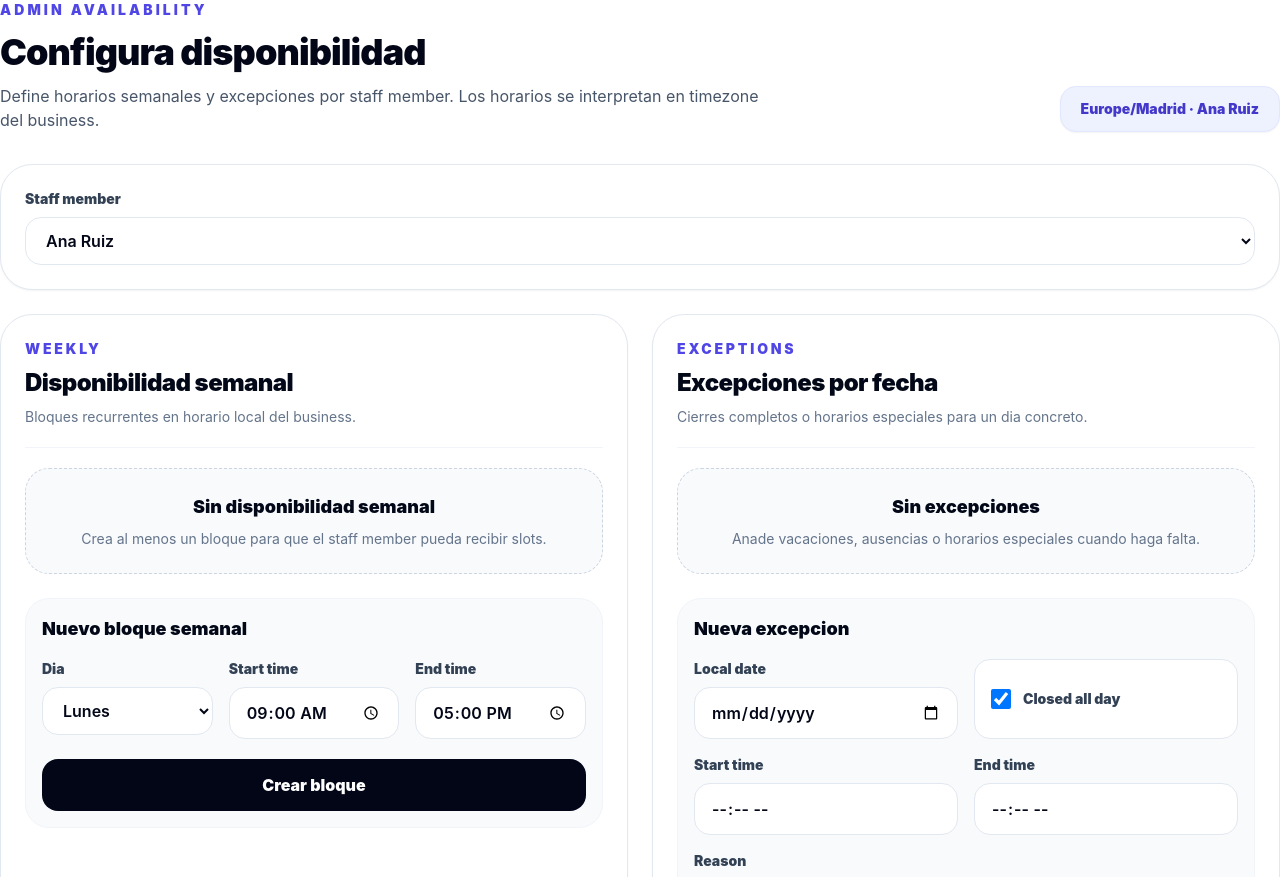
Test case: availability page › shows exception conflicts
The image size is (1280, 877).
Expected: the heading "Sin excepciones" is shown, [892,496,1040,517]
In the date field labelled "Local date": [826, 713] box [694,687,958,739], type "2026-07-20"
(page scrolled)
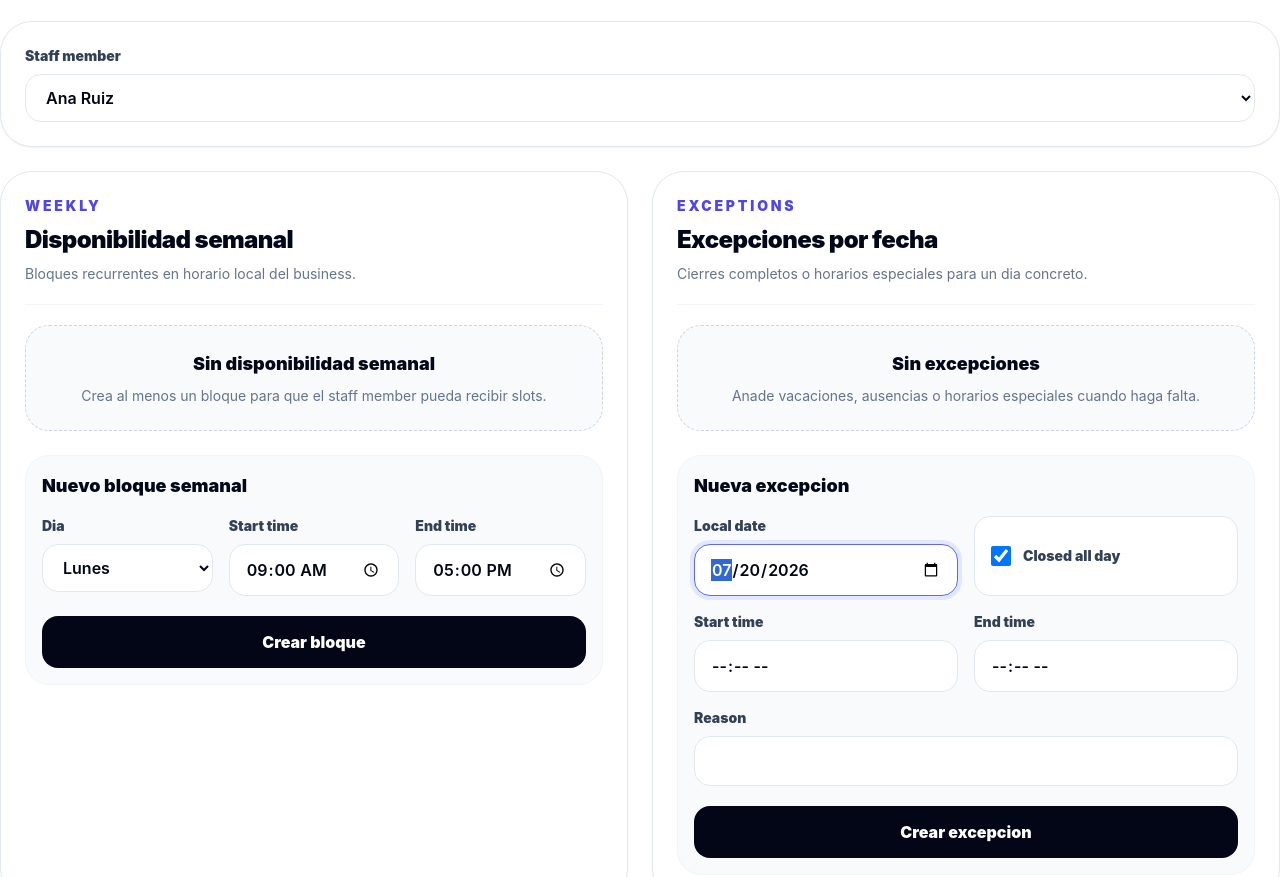
Click the button "Crear excepcion": [966, 832] box [694,806,1238,858]
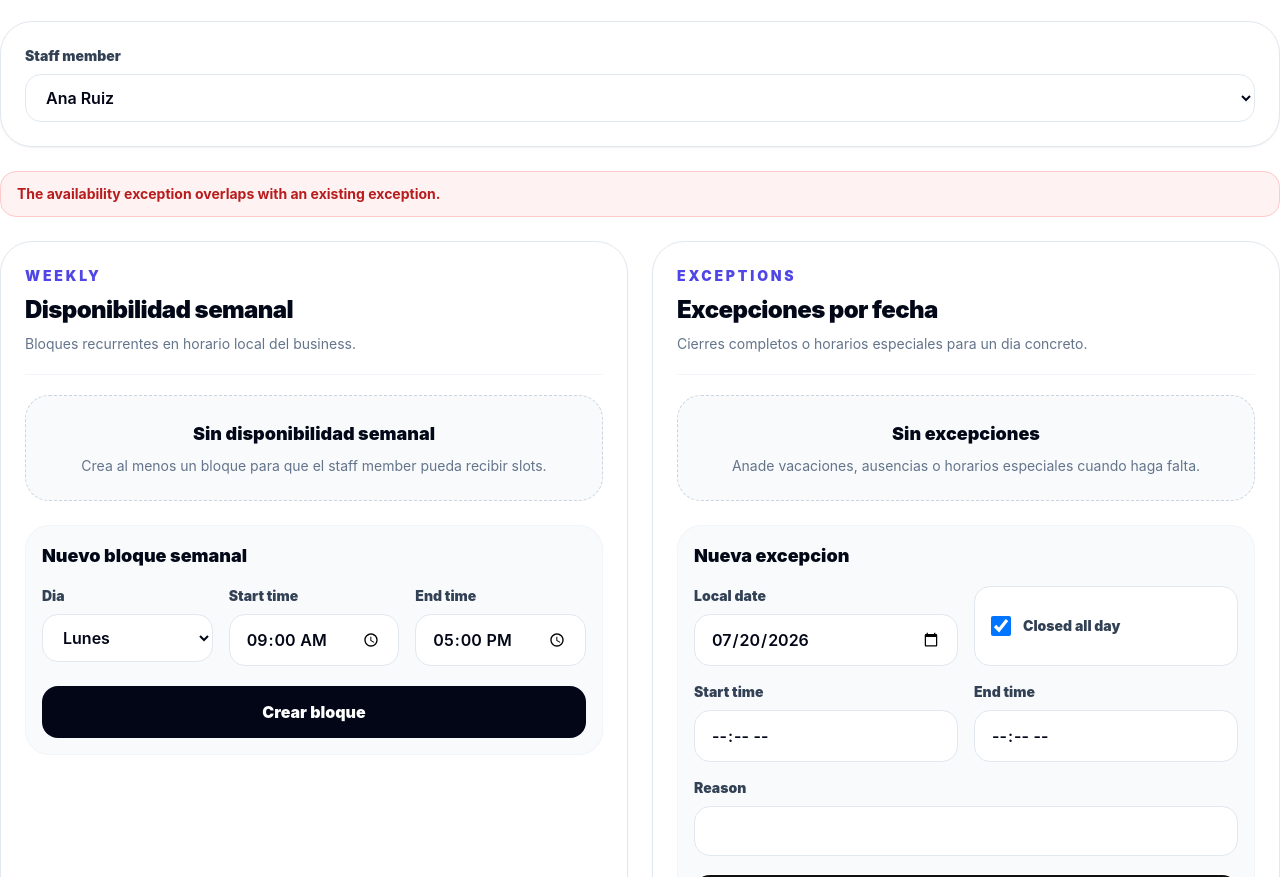
Expected: the message reads "The availability exception overlaps with an existing exception.", [17,185,440,202]
